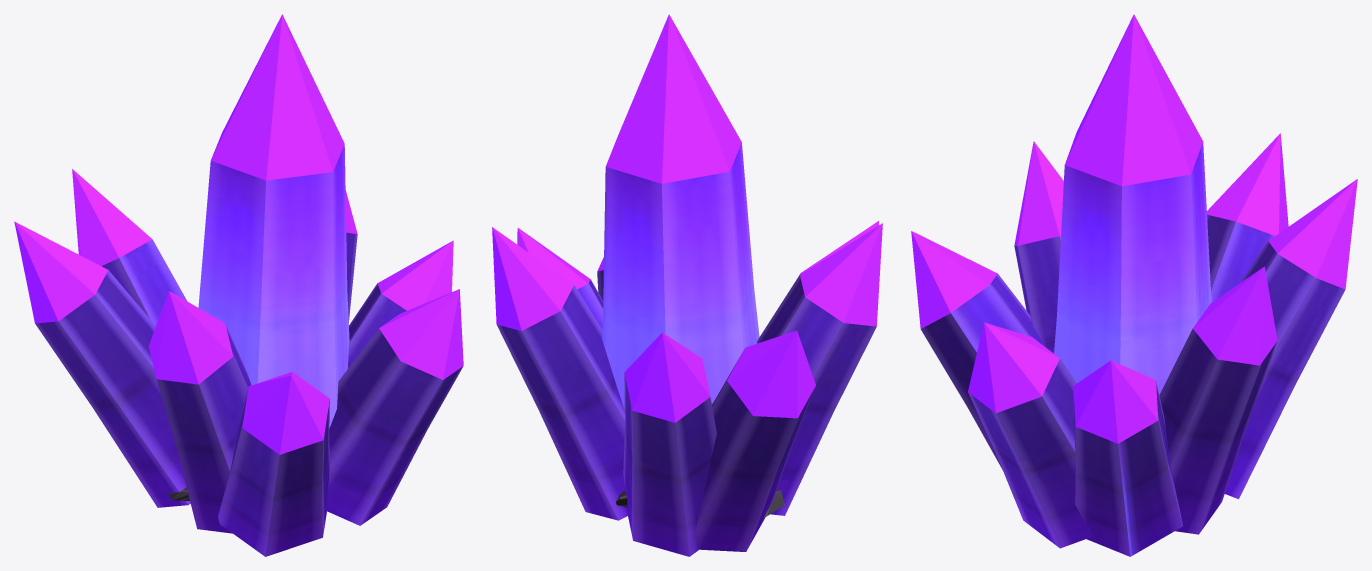
Rendered from res_crystal.glb.
3 views of the same model, side by side, from view 1: azimuth 30°, elevation 25°; view 2: azimuth 150°, elevation 25°; view 3: azimuth 270°, elevation 25° (orthographic). The views are drawn at different scales.
Parts seen in each view (by area): view 1: res_crystal; view 2: res_crystal; view 3: res_crystal.
Part boxes in pixels (box(x1,y1,x2,y2)): res_crystal: box(14, 14, 463, 556); res_crystal: box(492, 14, 882, 556); res_crystal: box(911, 14, 1357, 556).
Bounding box in the file's own units: 0.7769 × 1.02 × 0.8147.
3 materials, 2 textured.
